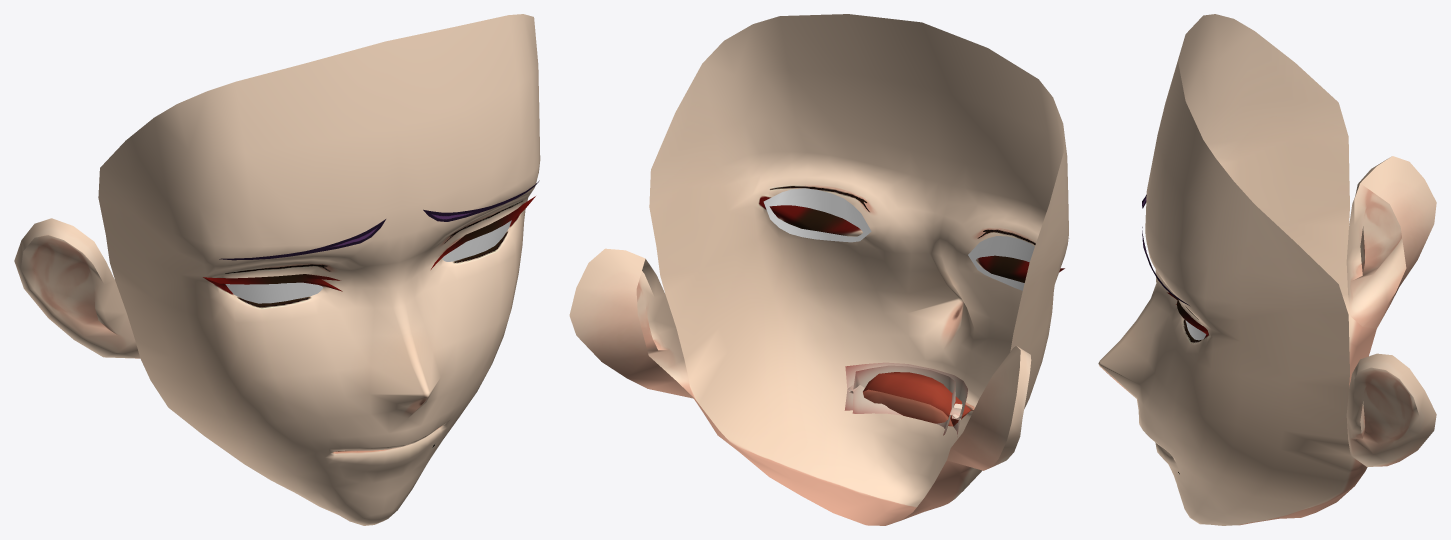
Rendered from Mayoi.fbx.
The picture shows the model from 3 angles, left to right: view 1: azimuth 30°, elevation 25°; view 2: azimuth 150°, elevation 25°; view 3: azimuth 270°, elevation 25°; orthographic projection. The views are drawn at different scales.
Parts seen in each view (by area): view 1: M_Head, M_Eye_B_Def, M_Mth_B_Def, M_PupALL_R_A_Def, M_Brw_B_Def, M_PupALL_L_A_Def; view 2: M_Head, M_Eye_B_Def, M_Mth_B_Def, M_PupALL_L_A_Def, M_PupALL_R_A_Def; view 3: M_Head, M_Eye_B_Def, M_Mth_B_Def.
Boxes of the visible parts, x1,y1,x2,y2 form: M_Head: (14, 14, 539, 380); M_Eye_B_Def: (129, 123, 540, 402); M_Mth_B_Def: (141, 338, 502, 525); M_PupALL_R_A_Def: (225, 282, 323, 303); M_Brw_B_Def: (219, 180, 539, 260); M_PupALL_L_A_Def: (442, 220, 511, 261); M_Head: (569, 14, 1068, 470); M_Eye_B_Def: (679, 120, 1068, 403); M_Mth_B_Def: (689, 300, 1028, 525); M_PupALL_L_A_Def: (763, 188, 871, 242); M_PupALL_R_A_Def: (968, 236, 1034, 290); M_Head: (1146, 14, 1436, 466); M_Eye_B_Def: (1098, 101, 1294, 449); M_Mth_B_Def: (1098, 316, 1376, 525).
Bounding box in the file's own units: 0.1645 × 0.1646 × 0.1095.
5 materials, 3 textured.
